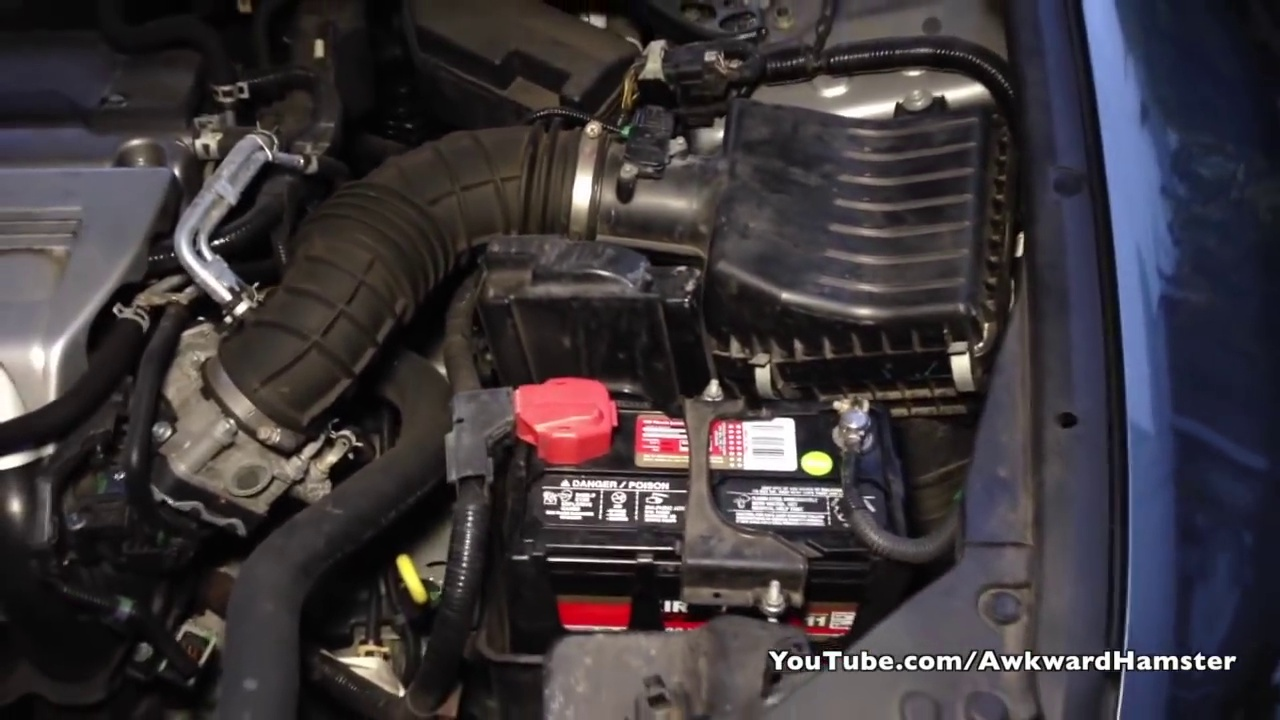battery: (503, 366, 902, 583)
neg_connected: (813, 382, 896, 483)
pos_connected: (475, 350, 634, 468)
